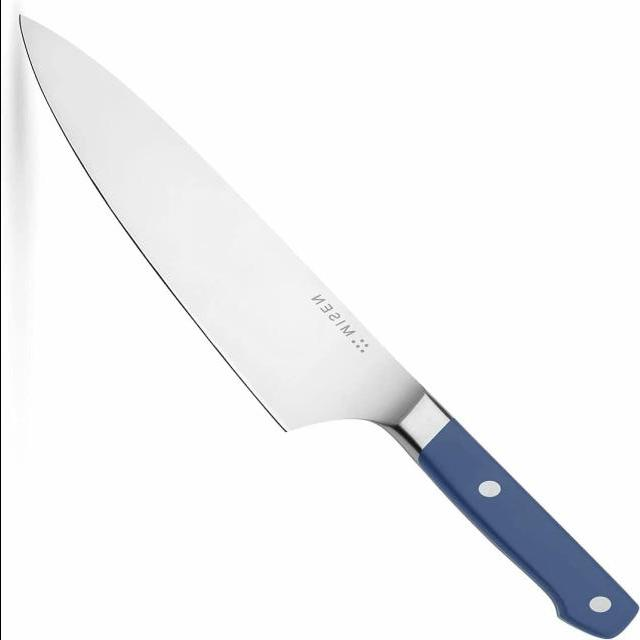knife: (1, 1, 640, 638)
